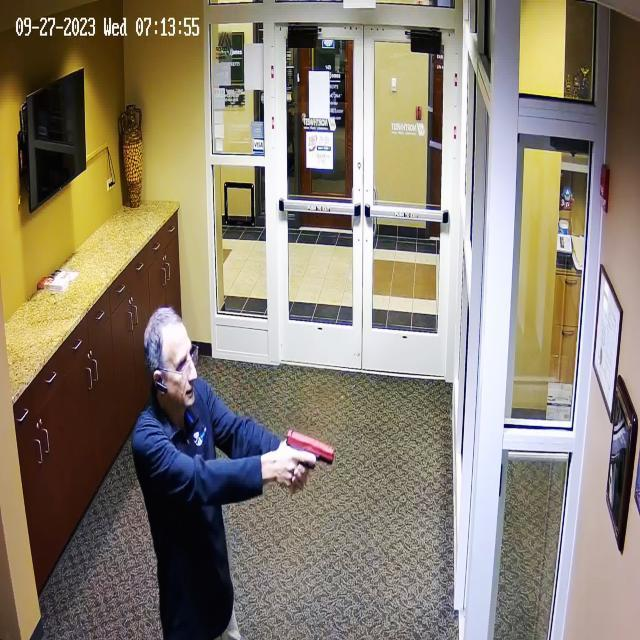Gun: (276, 427, 342, 478)
